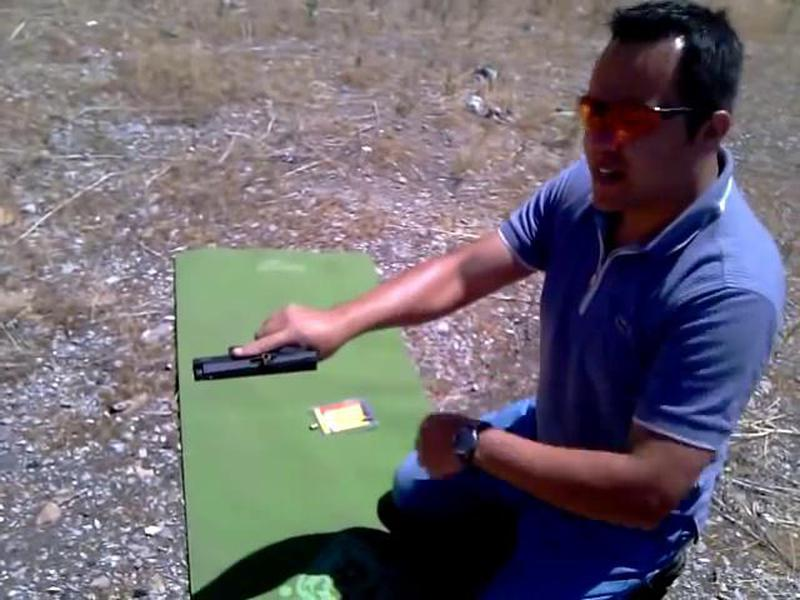Pistola: (180, 300, 332, 404)
